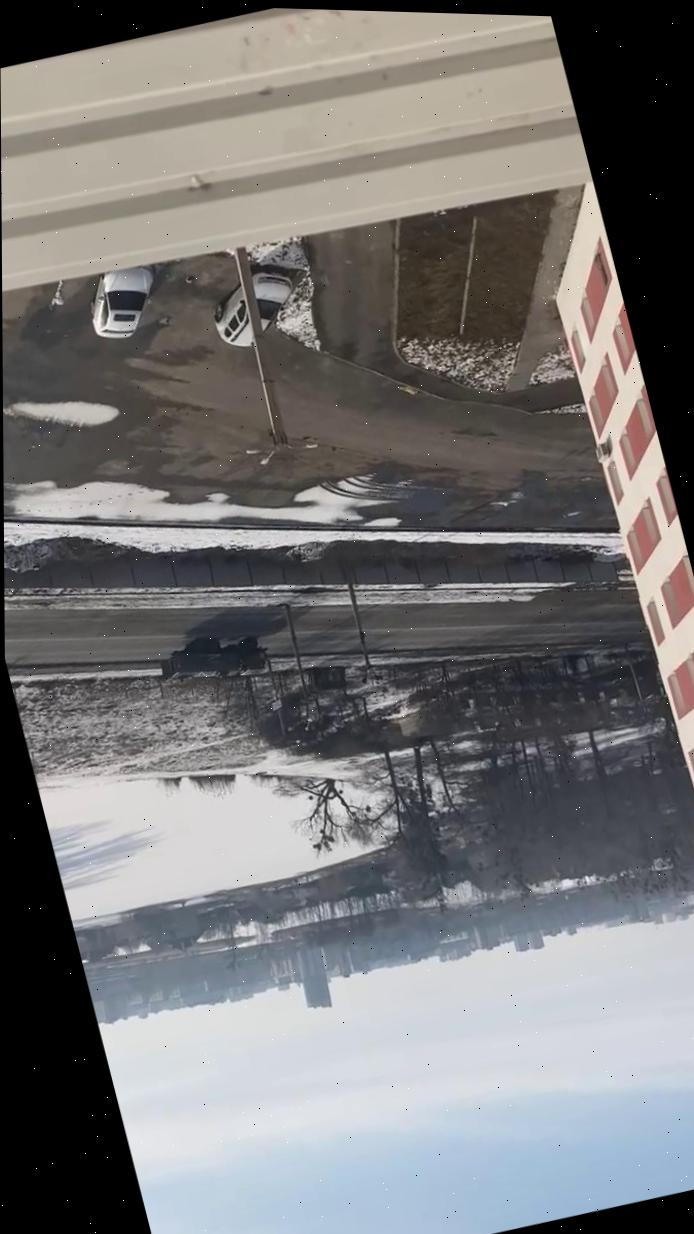car: (203, 259, 306, 356), (79, 259, 168, 346)
truck: (162, 619, 275, 694)
